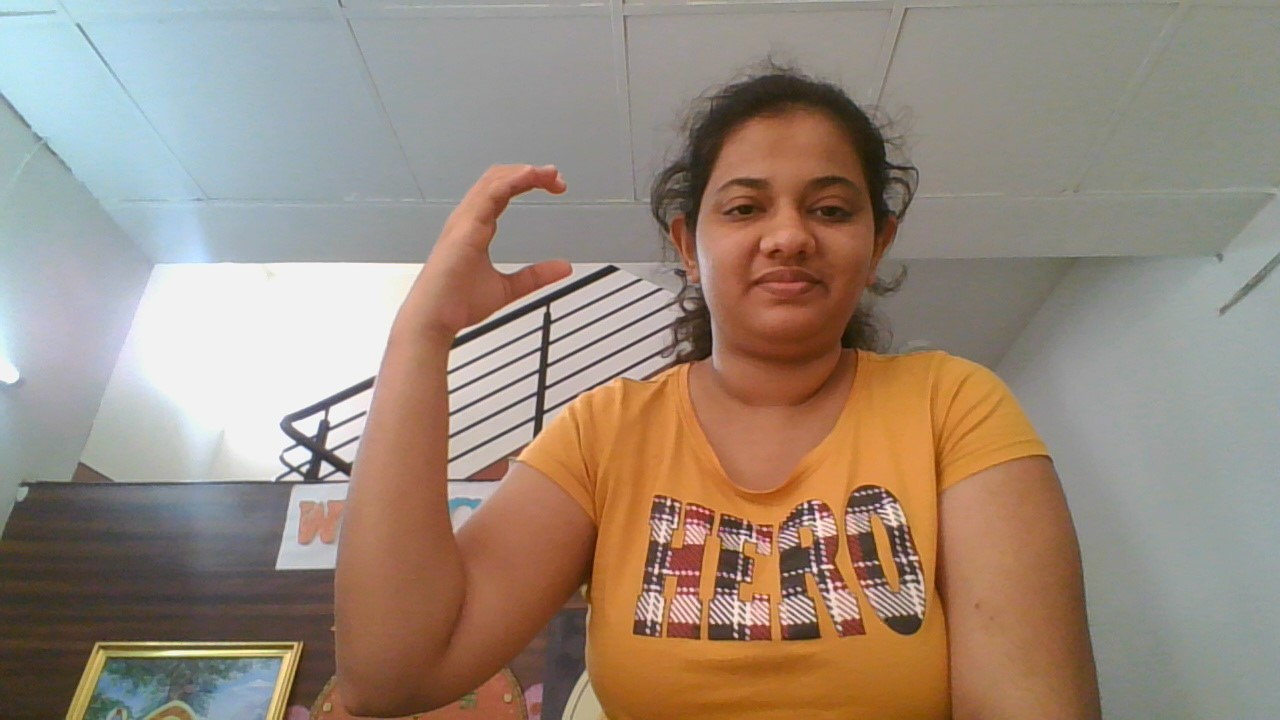c: (398, 144, 587, 358)
